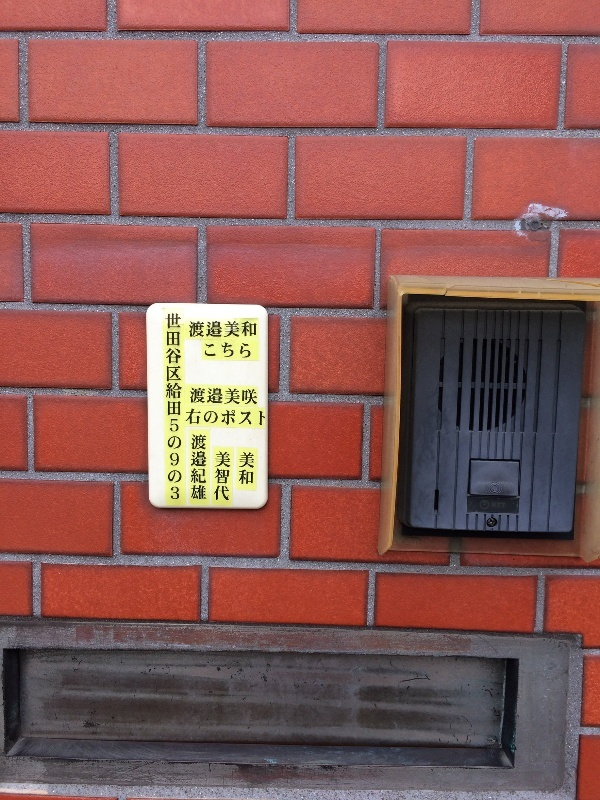text: (167, 313, 176, 505), (193, 433, 207, 502), (177, 313, 182, 505), (241, 446, 255, 494), (193, 382, 208, 412), (209, 382, 224, 412), (225, 382, 240, 412), (241, 382, 256, 412), (216, 451, 224, 505), (193, 318, 208, 343), (209, 318, 224, 343), (225, 318, 240, 343), (241, 318, 256, 343), (209, 340, 224, 365), (225, 340, 240, 365), (241, 340, 255, 365), (225, 451, 229, 505), (202, 340, 208, 365), (190, 433, 192, 502), (188, 318, 192, 343), (257, 318, 260, 343), (190, 382, 192, 412), (257, 382, 258, 412)
